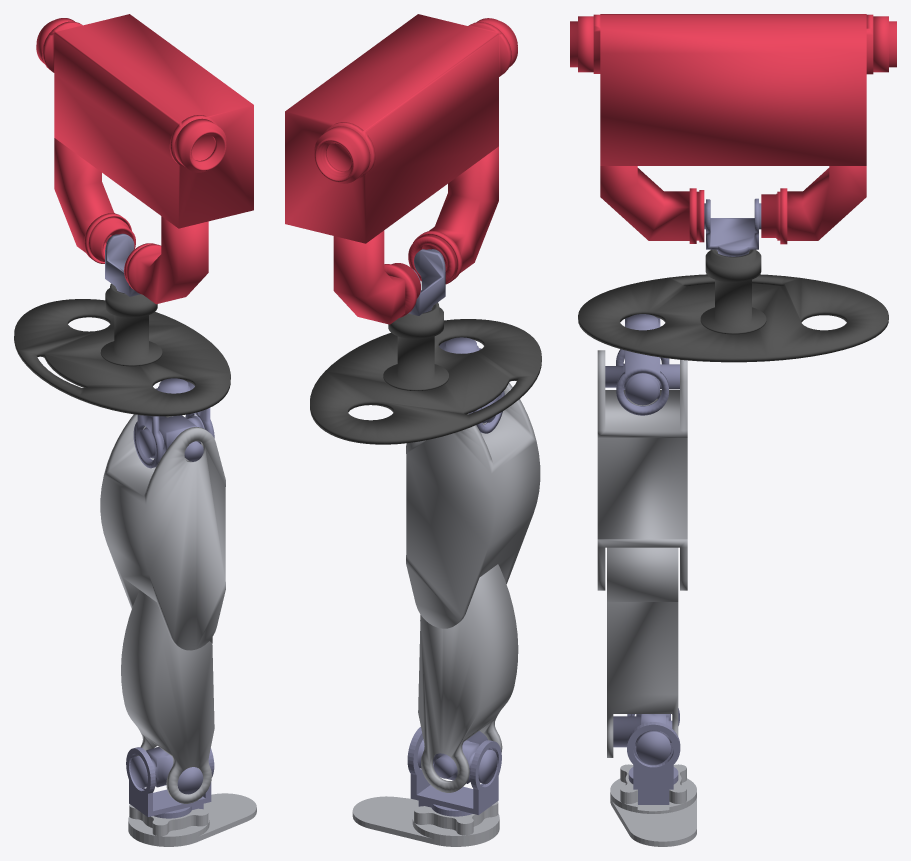
File: teo_rightLeg.glb
The picture shows the model from 3 angles, left to right: view 1: azimuth 30°, elevation 25°; view 2: azimuth 150°, elevation 25°; view 3: azimuth 270°, elevation 25°; orthographic projection. The views are drawn at different scales.
Visible parts, largest first — view 1: node.016, FrontalRightHip, node, FrontalRightKnee, RightFoot, SagittalRightAnkle, AxialRightHip, FrontalRightAnkle, SagittalRightHip, node.015; view 2: node.016, FrontalRightHip, node, FrontalRightKnee, RightFoot, SagittalRightAnkle, node.015, FrontalRightAnkle, AxialRightHip; view 3: node.016, node, FrontalRightHip, FrontalRightKnee, RightFoot, SagittalRightAnkle, AxialRightHip, node.015, FrontalRightAnkle, SagittalRightHip.
Part boxes in pixels (left/top/right/bottom): node.016: left=36, top=14, right=253, bottom=304; FrontalRightHip: left=100, top=414, right=225, bottom=650; node: left=14, top=283, right=230, bottom=416; FrontalRightKnee: left=121, top=590, right=214, bottom=803; RightFoot: left=128, top=793, right=256, bottom=846; SagittalRightAnkle: left=126, top=747, right=214, bottom=818; AxialRightHip: left=133, top=378, right=214, bottom=468; FrontalRightAnkle: left=130, top=747, right=203, bottom=794; SagittalRightHip: left=138, top=415, right=204, bottom=461; node.015: left=105, top=233, right=140, bottom=296; node.016: left=285, top=14, right=517, bottom=324; FrontalRightHip: left=406, top=382, right=540, bottom=628; node: left=310, top=302, right=541, bottom=444; FrontalRightKnee: left=418, top=564, right=518, bottom=792; RightFoot: left=352, top=796, right=499, bottom=846; SagittalRightAnkle: left=407, top=726, right=501, bottom=816; node.015: left=408, top=249, right=445, bottom=315; FrontalRightAnkle: left=417, top=731, right=497, bottom=784; AxialRightHip: left=439, top=337, right=504, bottom=433; node.016: left=570, top=14, right=896, bottom=244; node: left=578, top=249, right=888, bottom=362; FrontalRightHip: left=597, top=350, right=687, bottom=590; FrontalRightKnee: left=607, top=547, right=678, bottom=757; RightFoot: left=610, top=764, right=696, bottom=846; SagittalRightAnkle: left=627, top=708, right=680, bottom=804; AxialRightHip: left=616, top=314, right=669, bottom=415; node.015: left=704, top=198, right=761, bottom=256; FrontalRightAnkle: left=613, top=714, right=672, bottom=764; SagittalRightHip: left=605, top=363, right=679, bottom=405.
Bounding box in the file's own units: 0.3529 × 1.39 × 0.5258.
